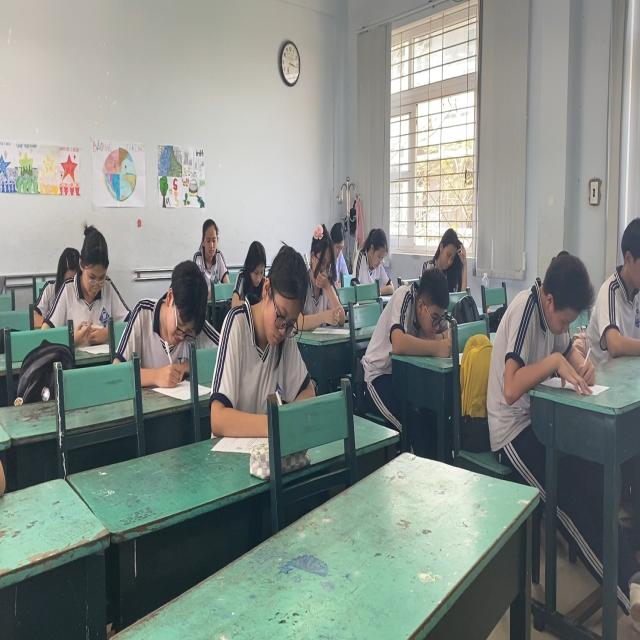not_cheating: (500, 251, 593, 402), (251, 240, 308, 396), (147, 261, 208, 371), (61, 223, 119, 337), (391, 270, 457, 358), (306, 226, 344, 323), (226, 243, 271, 302), (430, 226, 475, 285), (358, 220, 389, 288), (197, 215, 224, 275)
